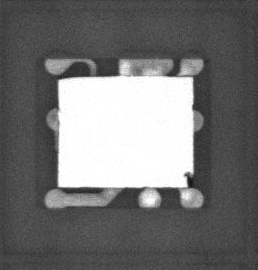DIE_BROKEN: (183, 169, 193, 189)
